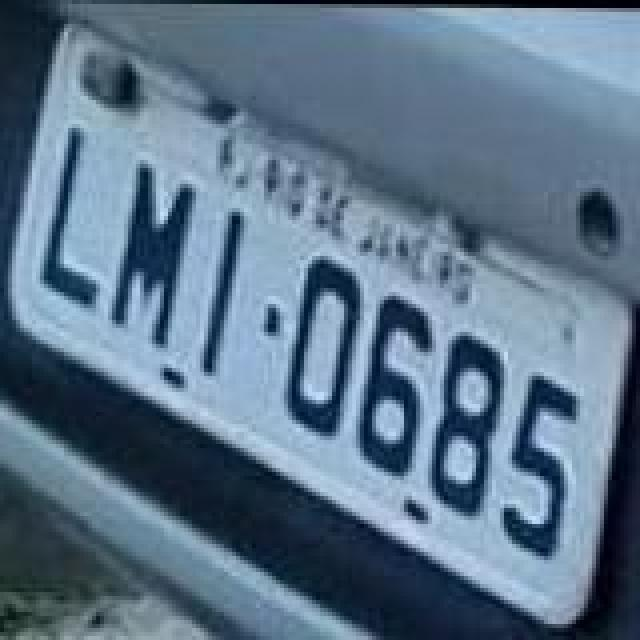1: (202, 206, 262, 374)
5: (502, 368, 586, 556)
6: (358, 292, 442, 476)
8: (432, 330, 512, 514)
L: (38, 124, 106, 308)
M: (106, 162, 198, 354)
O: (282, 256, 366, 440)
